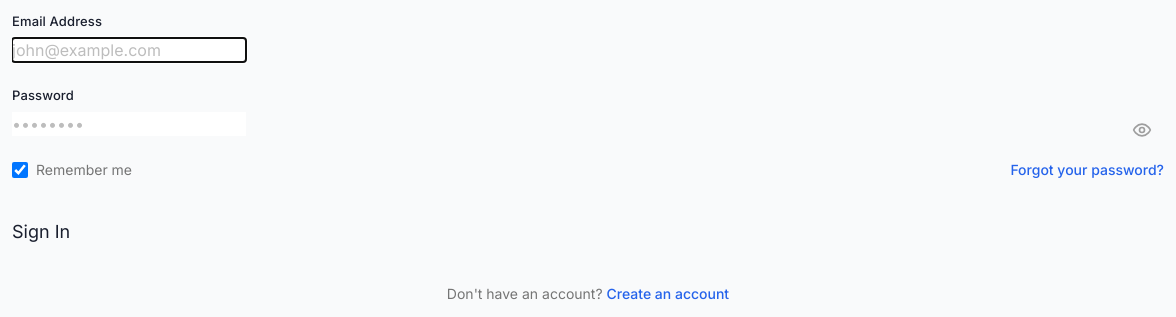
Test case: LoginForm › disables submit button while loading
Type "test@example.com" into the field labelled "Email Address" at (129, 50), box [12,38,246,62]
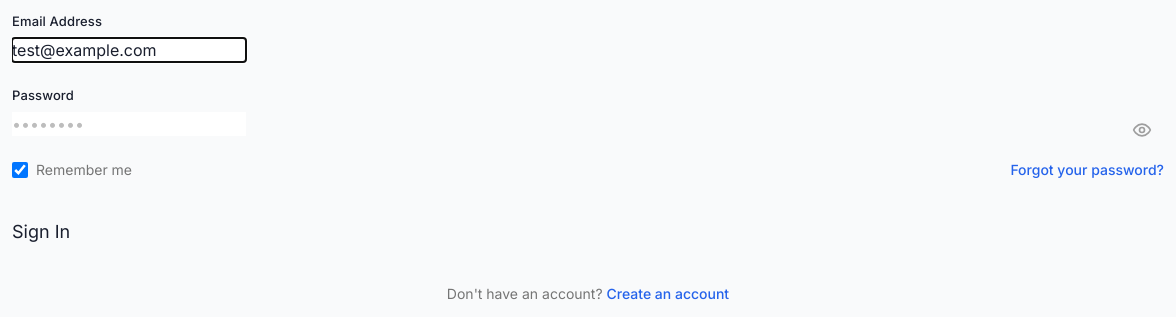
Type "password123" into the password field labelled "Password" at (129, 124), box [12,112,246,136]
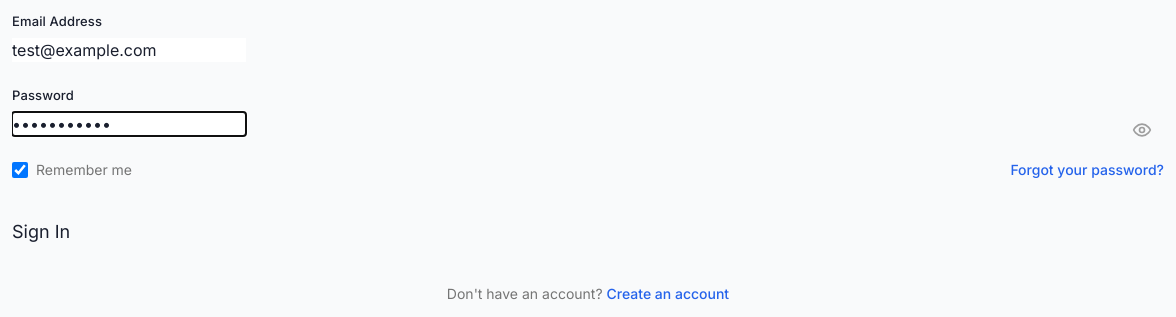
Click the button "Sign In" at (41, 232), box [12,204,1164,260]
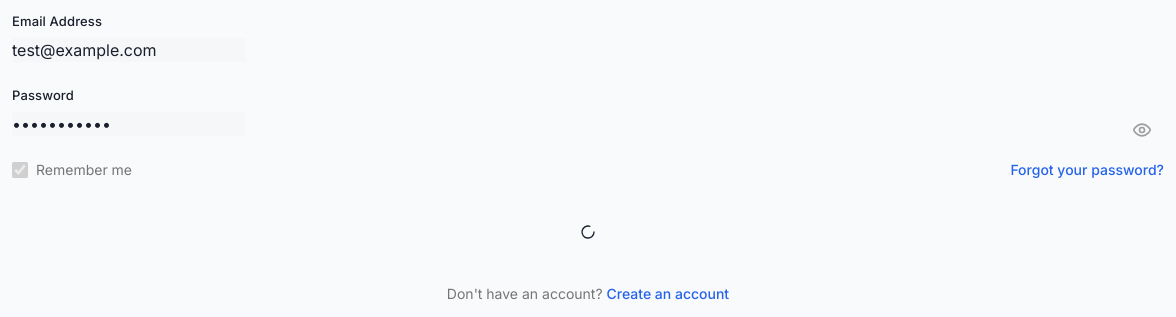
Expected: the 2nd button named "sign in" is disabled, [12,204,1164,260]
